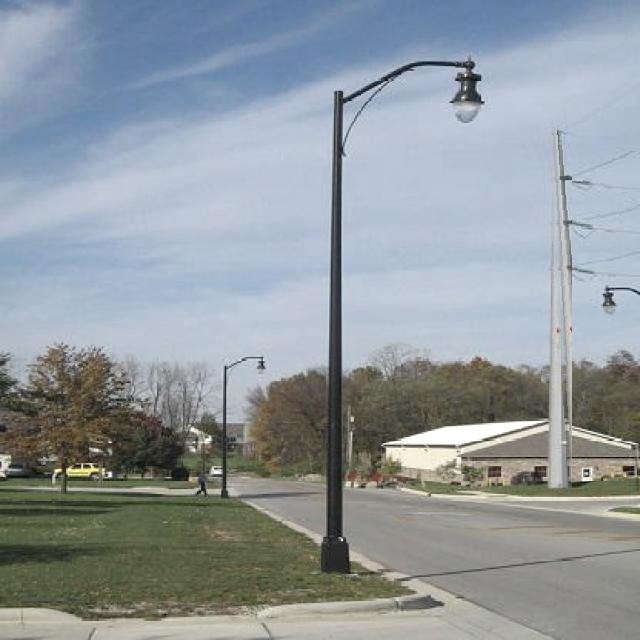crossarm: (560, 176, 591, 184), (562, 221, 593, 228), (564, 267, 594, 272)
pole: (551, 128, 572, 488)
wire: (571, 151, 640, 180), (572, 251, 639, 269), (572, 206, 639, 224), (593, 184, 640, 189)
